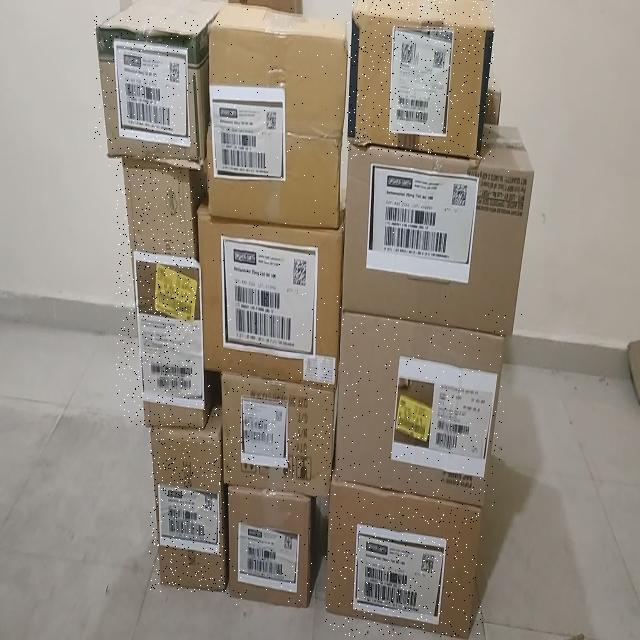BoxFace: (341, 122, 535, 336), (334, 310, 506, 506), (206, 3, 348, 230), (196, 200, 344, 384), (325, 470, 483, 638), (117, 156, 210, 428), (347, 0, 495, 159), (94, 17, 200, 166), (220, 368, 336, 497), (149, 404, 227, 592), (227, 484, 313, 608)
